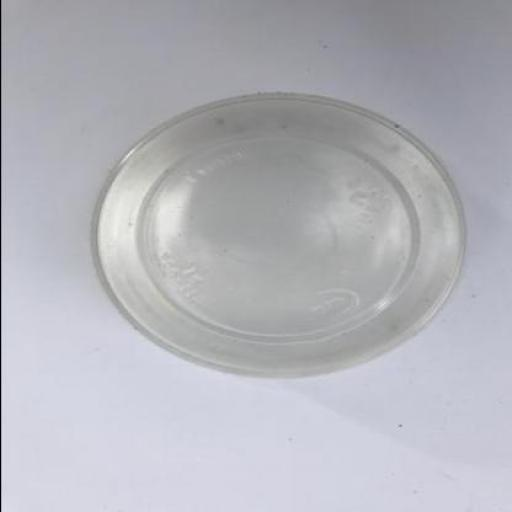plastic: (92, 94, 466, 379)
